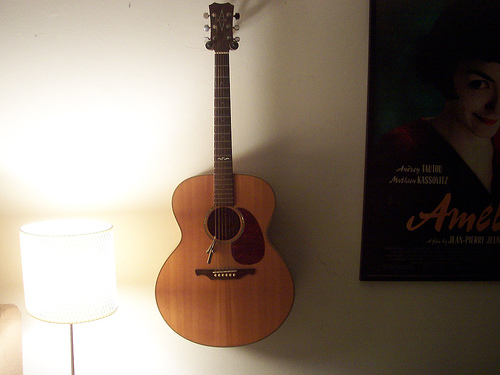guitar: (150, 1, 297, 350)
